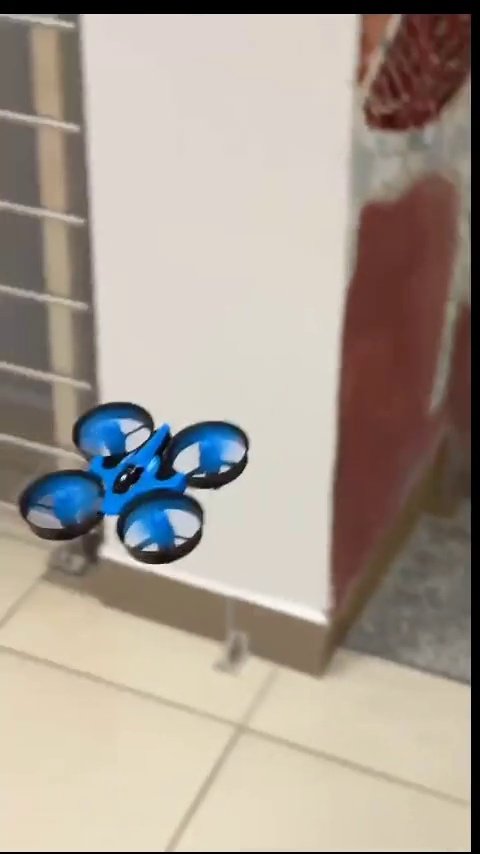drone: (24, 404, 253, 565)
